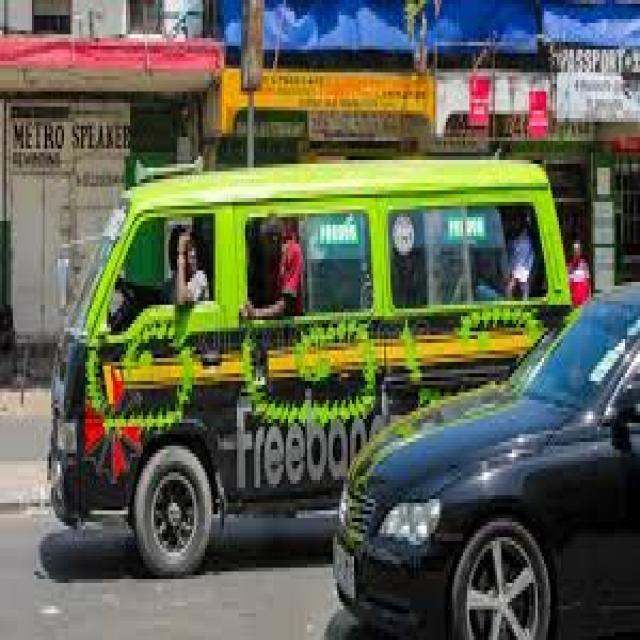matatu: (56, 162, 332, 582), (338, 162, 574, 318)
